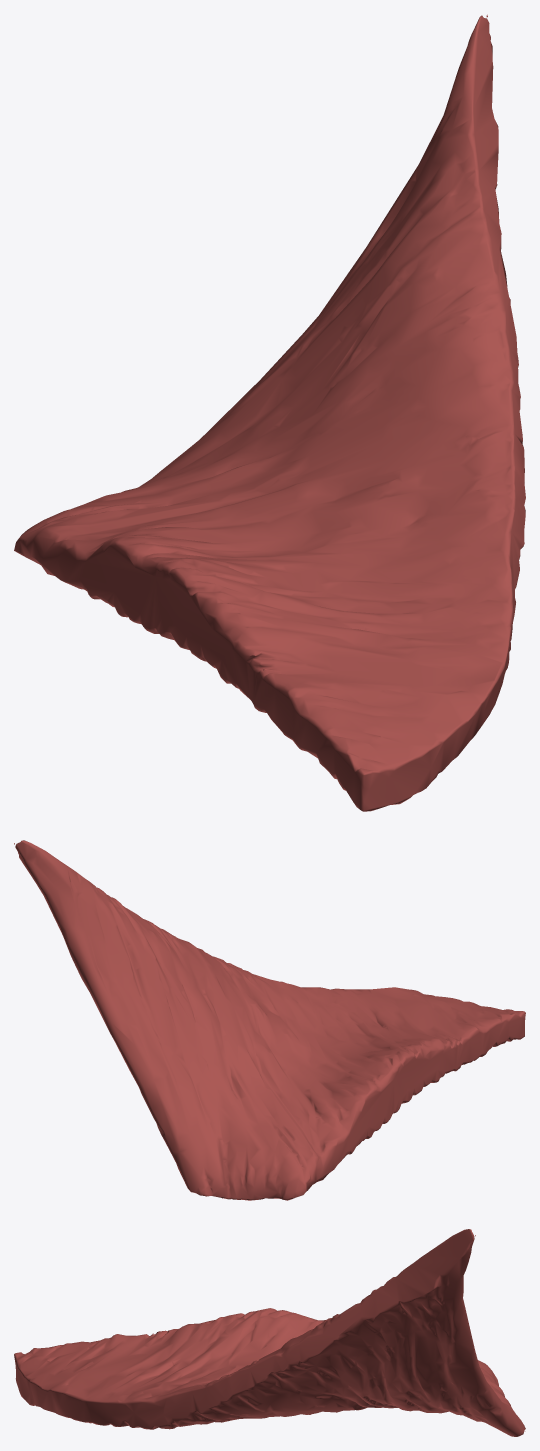
Rendered from FMA46322.glb.
The picture shows the model from 3 angles, top to bottom: view 1: azimuth 30°, elevation 25°; view 2: azimuth 150°, elevation 25°; view 3: azimuth 270°, elevation 25°; orthographic projection. The views are drawn at different scales.
Visible parts, largest first — view 1: FMA46322; view 2: FMA46322; view 3: FMA46322.
Boxes of the visible parts, <box> form: FMA46322: <box>14,14,525,811</box>; FMA46322: <box>14,840,525,1200</box>; FMA46322: <box>14,1229,525,1436</box>.
Bounding box in the file's own units: 0.0262 × 0.0243 × 0.0367.
